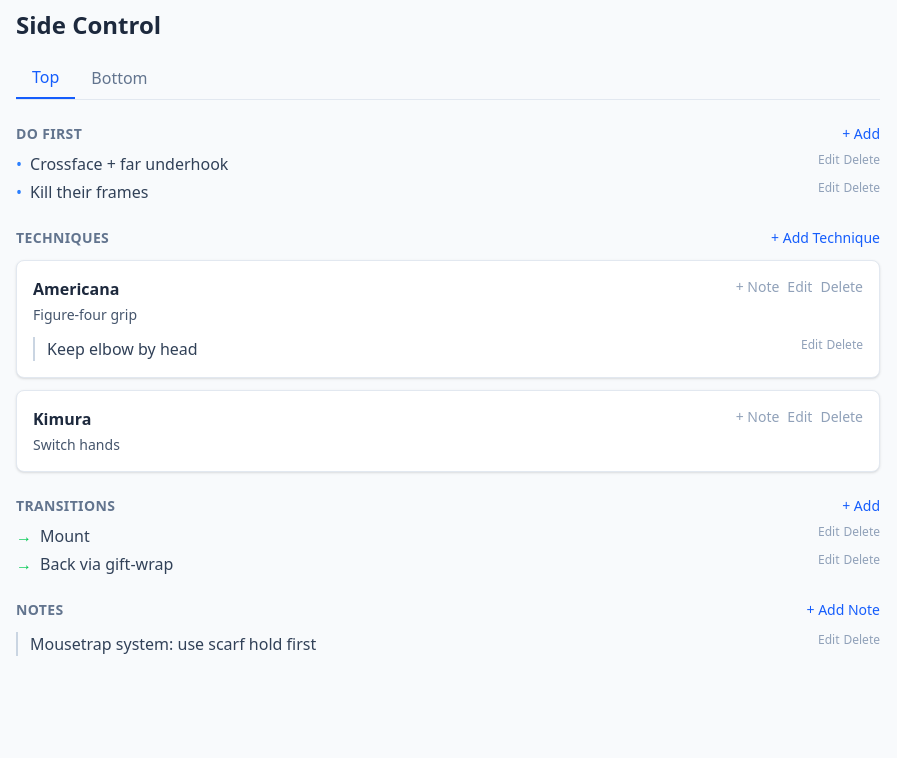
Scenario: PositionView › opens Transitions form when "+ Add" clicked
Click the button "+ Add" in the row of "Transitions".
click(861, 506)  # box [842,496,880,516]
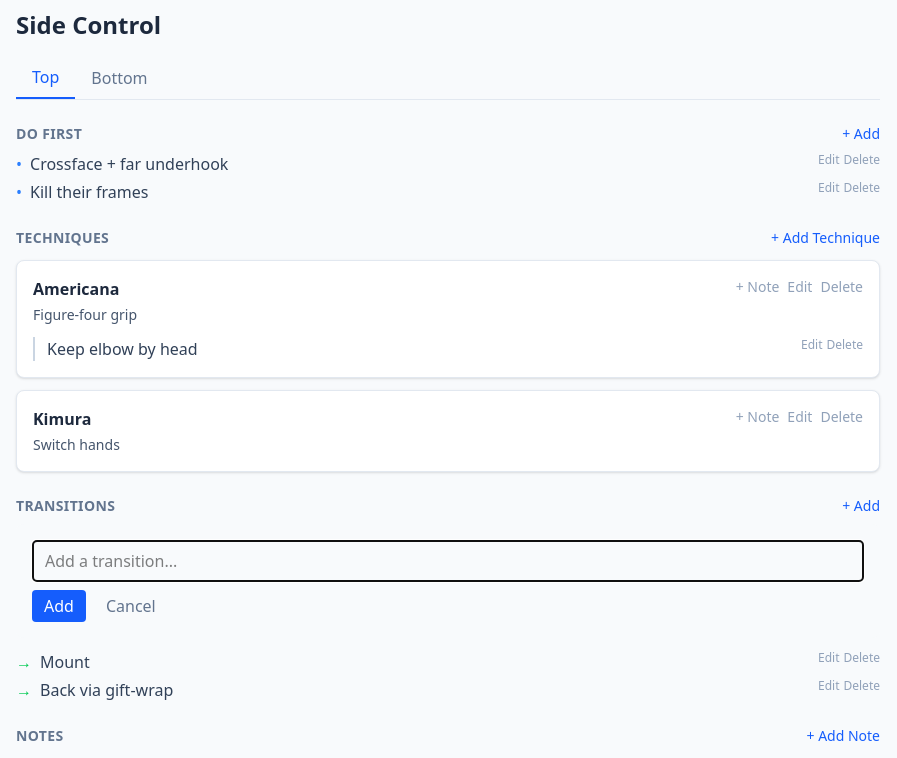
Expected: the field with placeholder "Add a transition..." is shown, [32,540,864,582]
